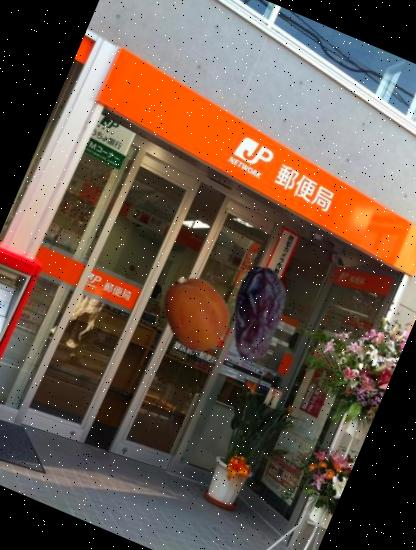Apricot: (146, 265, 244, 364)
Dates: (196, 252, 320, 378)
